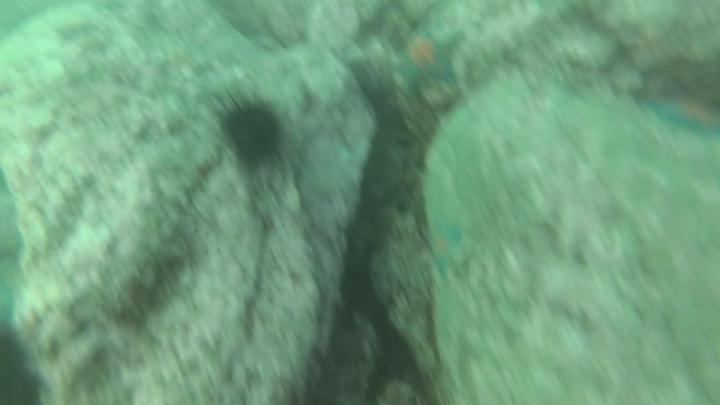echinus: (208, 88, 288, 181)
starfish: (389, 26, 467, 104), (646, 91, 720, 144), (422, 218, 464, 276)
